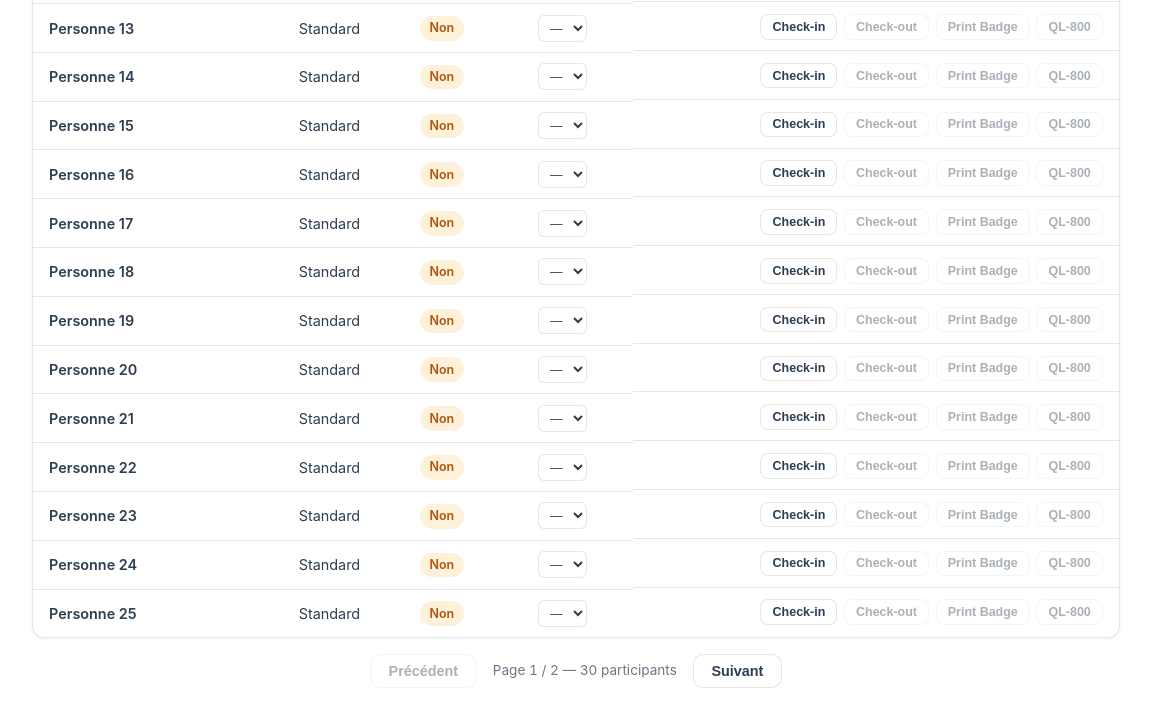
DashboardView › revient en page 1 quand un filtre change
This screenshot has width=1152, height=720.
(page scrolled)
Click the button "Suivant" at (737, 671), box left=693, top=654, right=782, bottom=688
(page scrolled)
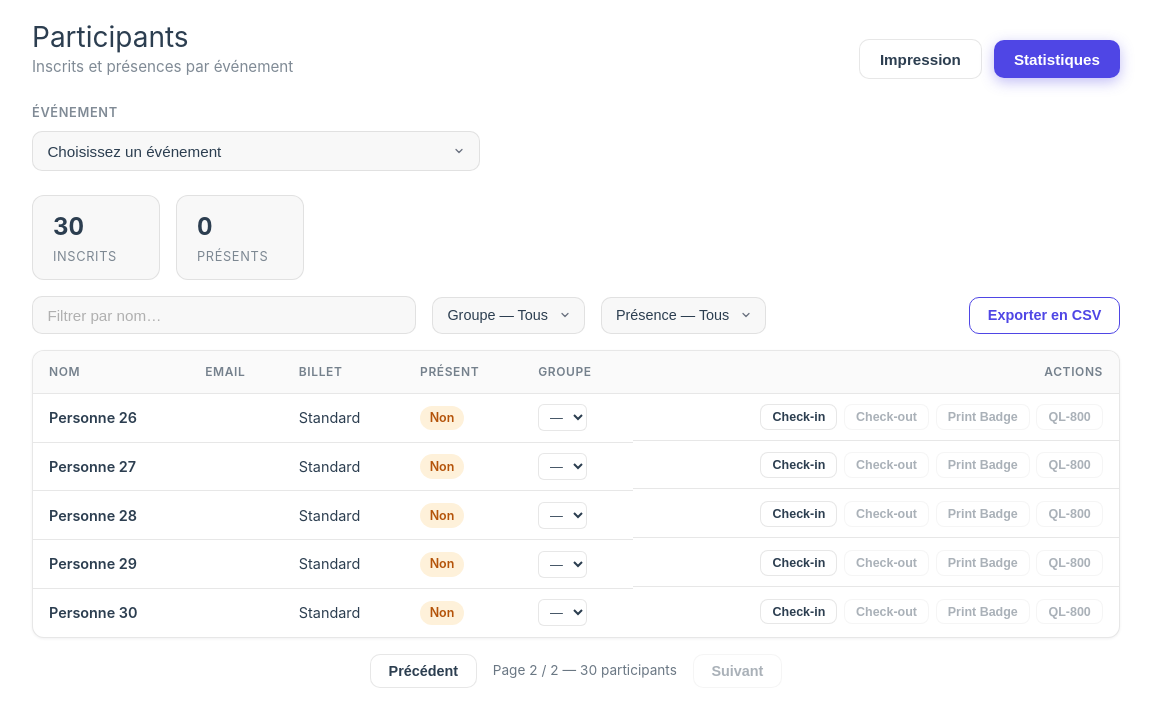
Expected: the text "Page 2 / 2" is shown, left=493, top=662, right=677, bottom=678
Type "zoé" into the search field with placeholder "Filtrer par nom…" at (224, 315), box left=32, top=296, right=416, bottom=334
(page scrolled)
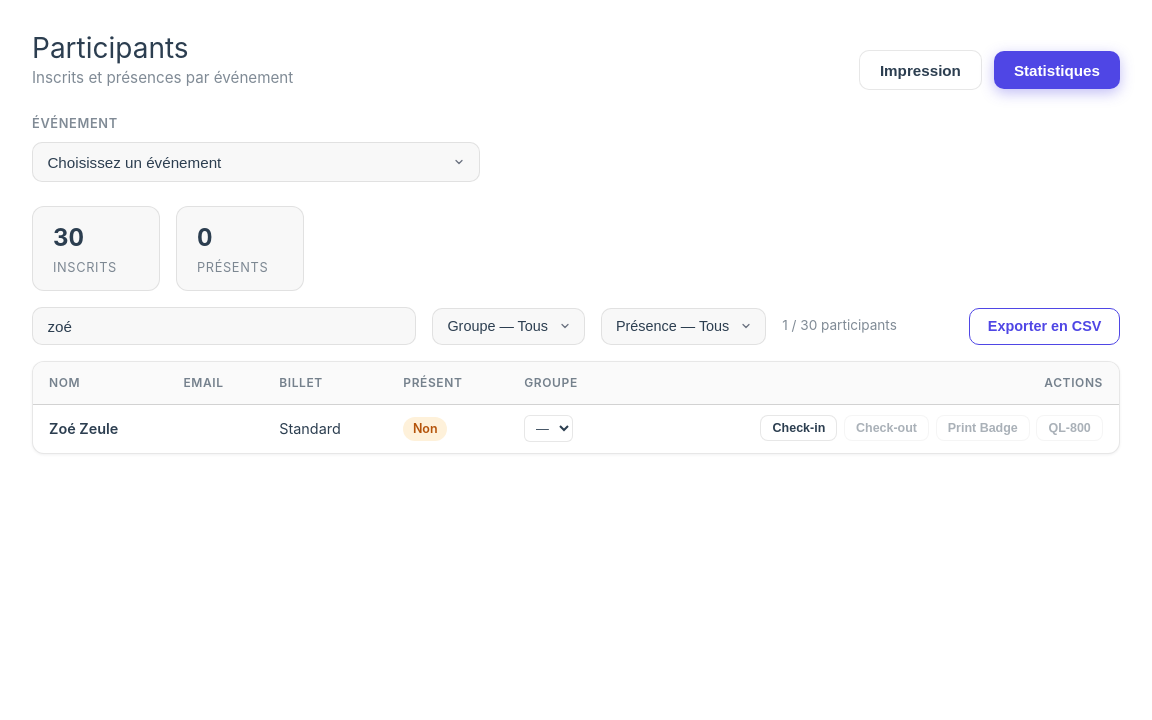
Expected: the text "Zoé Zeule" is shown, left=33, top=404, right=167, bottom=453
Expected: the text "Page 2 / 2" is gone
